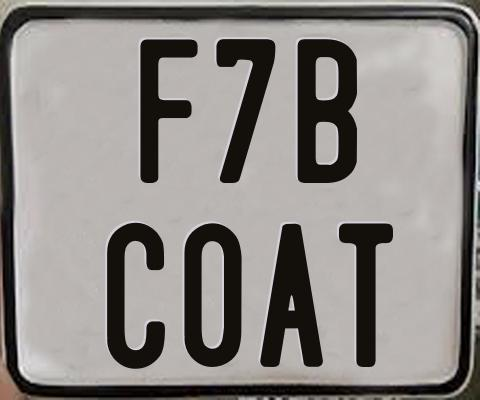0: (184, 222, 246, 369)
7: (214, 39, 275, 188)
A: (260, 223, 325, 371)
B: (298, 36, 359, 181)
C: (107, 221, 171, 373)
F: (138, 37, 198, 183)
T: (339, 223, 394, 367)
